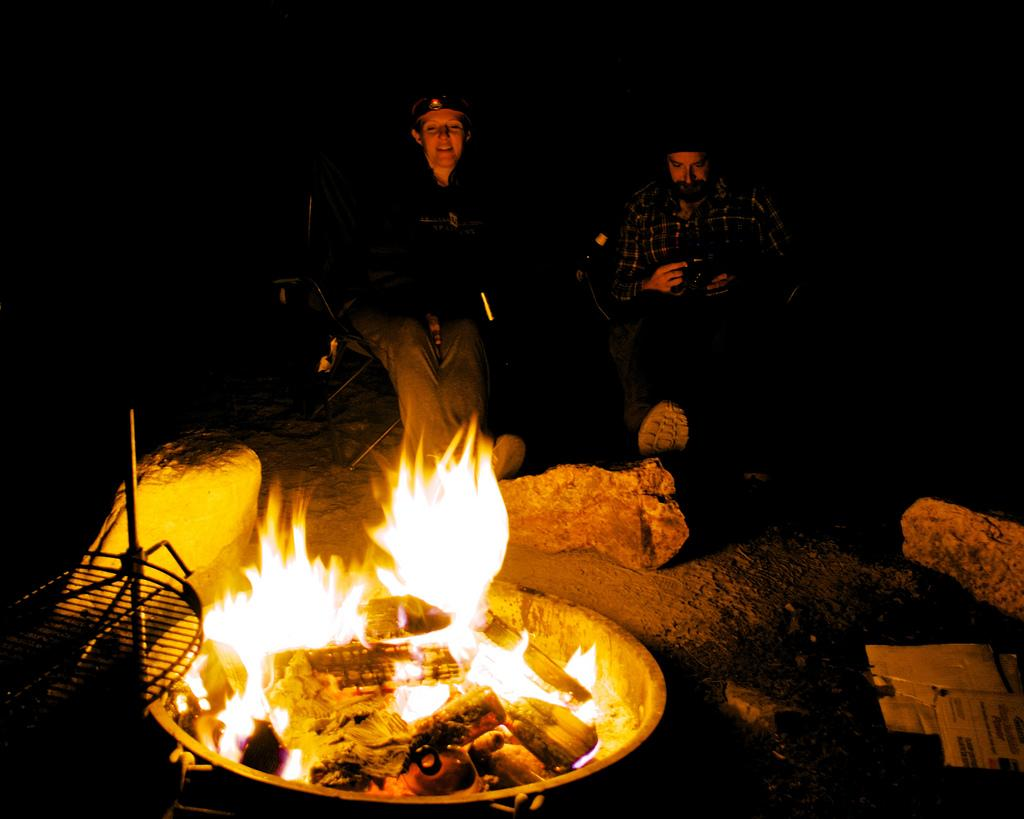fire: (384, 454, 508, 608), (226, 550, 350, 640)
